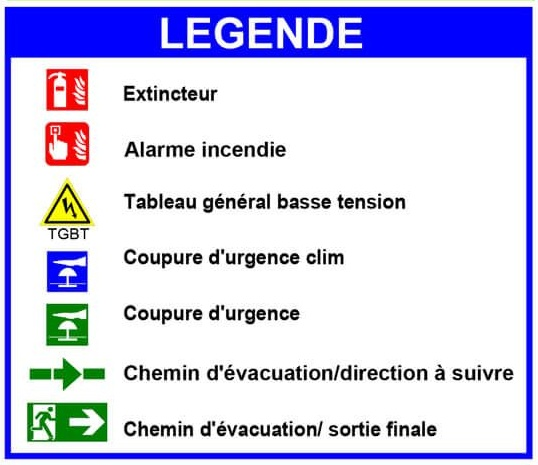coupure d'urgence: (48, 251, 87, 290)
exit: (27, 402, 106, 441)
extincteur: (46, 69, 88, 111), (46, 122, 89, 163)
